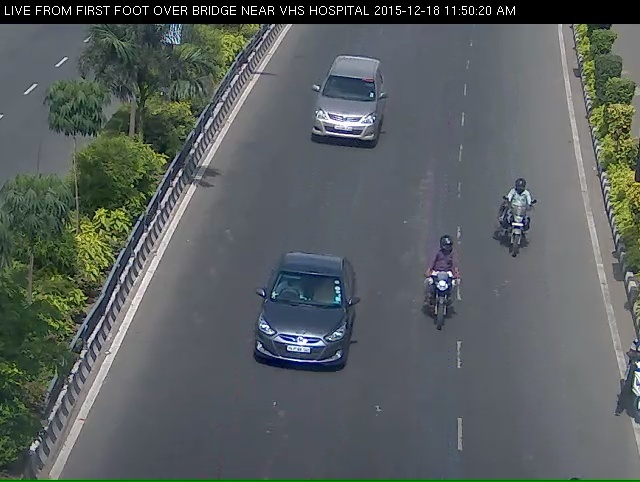Car: (246, 262, 355, 398), (314, 56, 384, 163)
Person: (413, 251, 466, 347), (499, 185, 538, 274)
